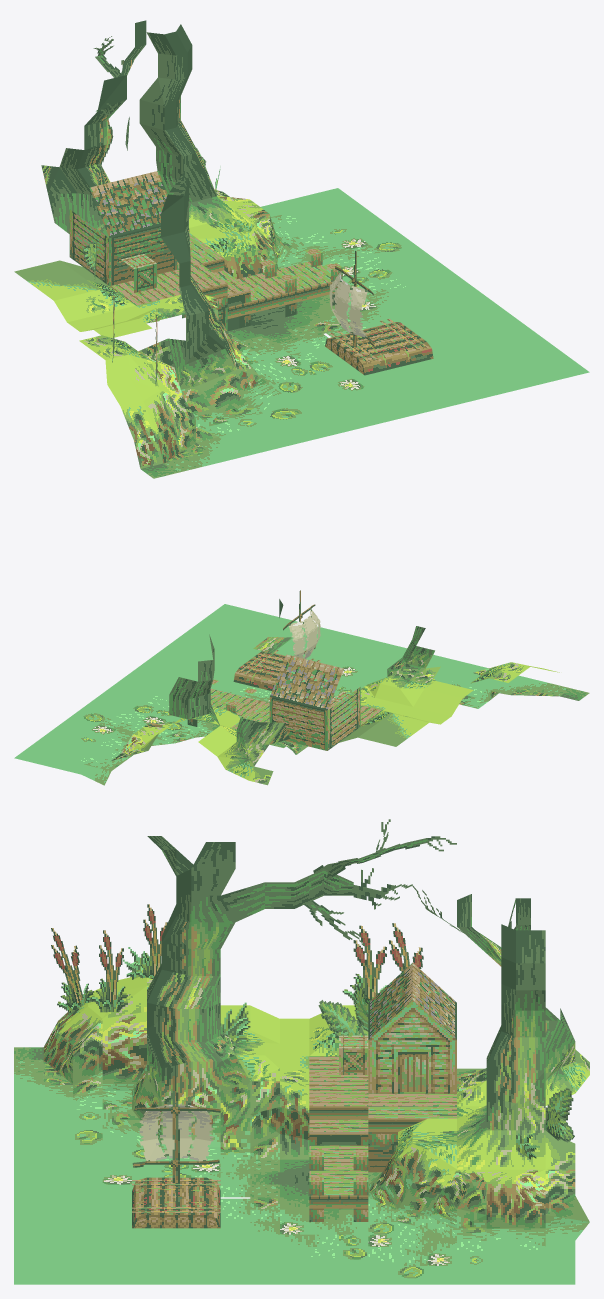
Rendered from swamp.gltf.
3 views of the same model, one above another, from view 1: azimuth 30°, elevation 25°; view 2: azimuth 150°, elevation 25°; view 3: azimuth 270°, elevation 25° (orthographic). The views are drawn at different scales.
Size of the model in its own units: 19 by 11.5 by 19.5.
Materials: 1 (1 with a texture image).
